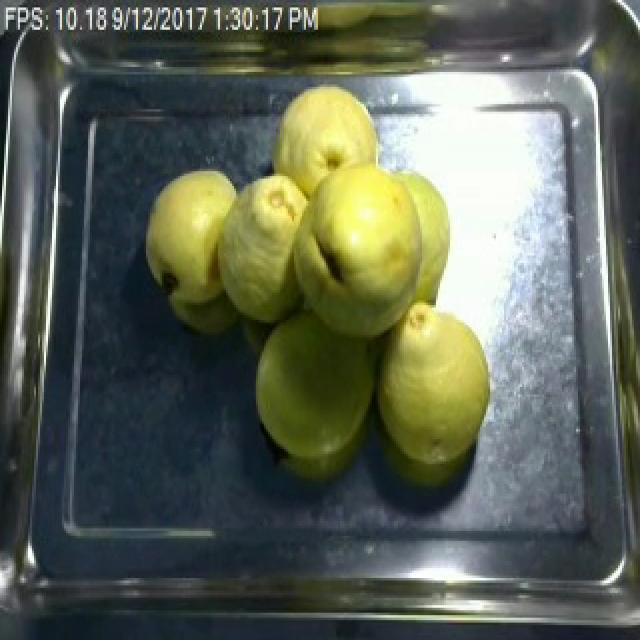Fruit: (278, 112, 466, 347), (244, 302, 388, 488), (362, 295, 502, 479), (136, 159, 254, 342)
